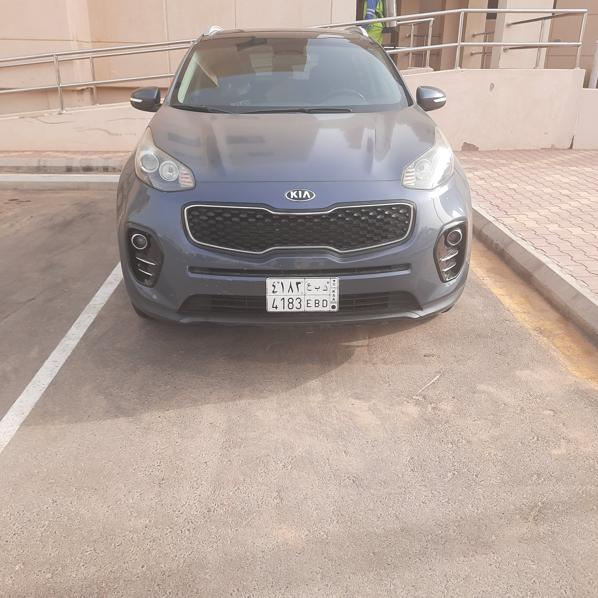numberplate: (266, 278, 340, 311)
